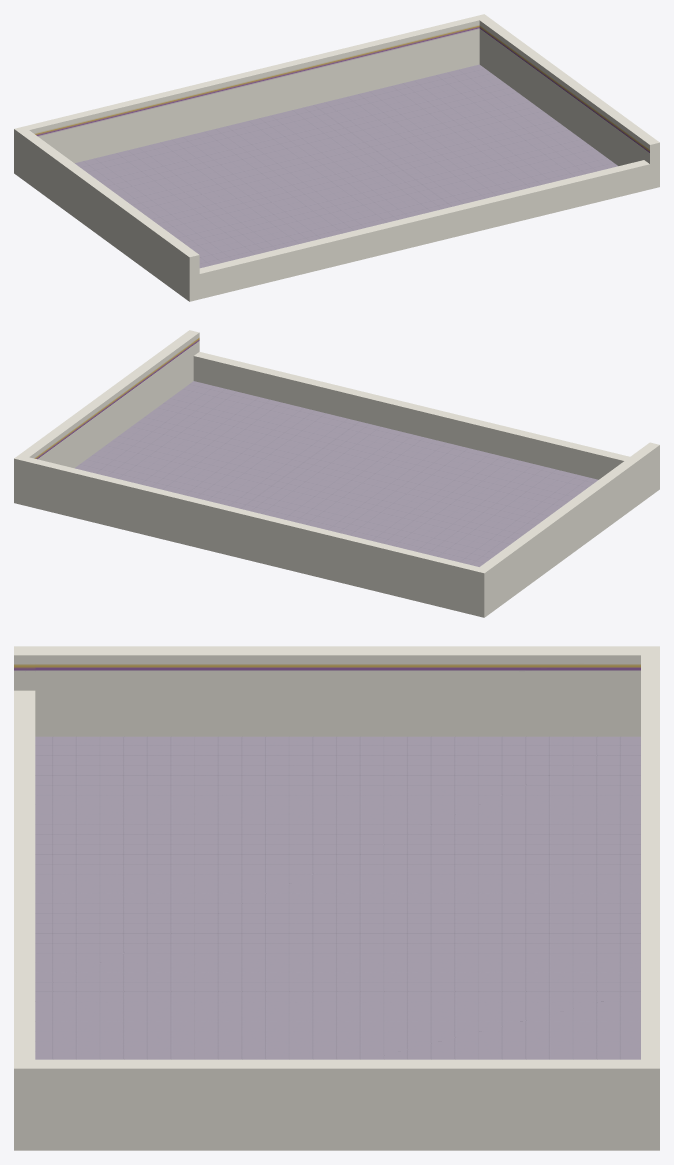
Rendered from Level1_Room.fbx.
3 renders of one model, top to bottom at view 1: azimuth 30°, elevation 25°; view 2: azimuth 150°, elevation 25°; view 3: azimuth 270°, elevation 25°, orthographic. The views are drawn at different scales.
Visible parts, largest first — view 1: polySurface152; view 2: polySurface152; view 3: polySurface152.
Part boxes in pixels (x1,y1,x2,y2): polySurface152: [14, 14, 659, 301]; polySurface152: [14, 330, 659, 617]; polySurface152: [14, 646, 659, 1150].
Bounding box in the file's own units: 1388 × 126 × 897.
Materials: 2 (2 with a texture image).
